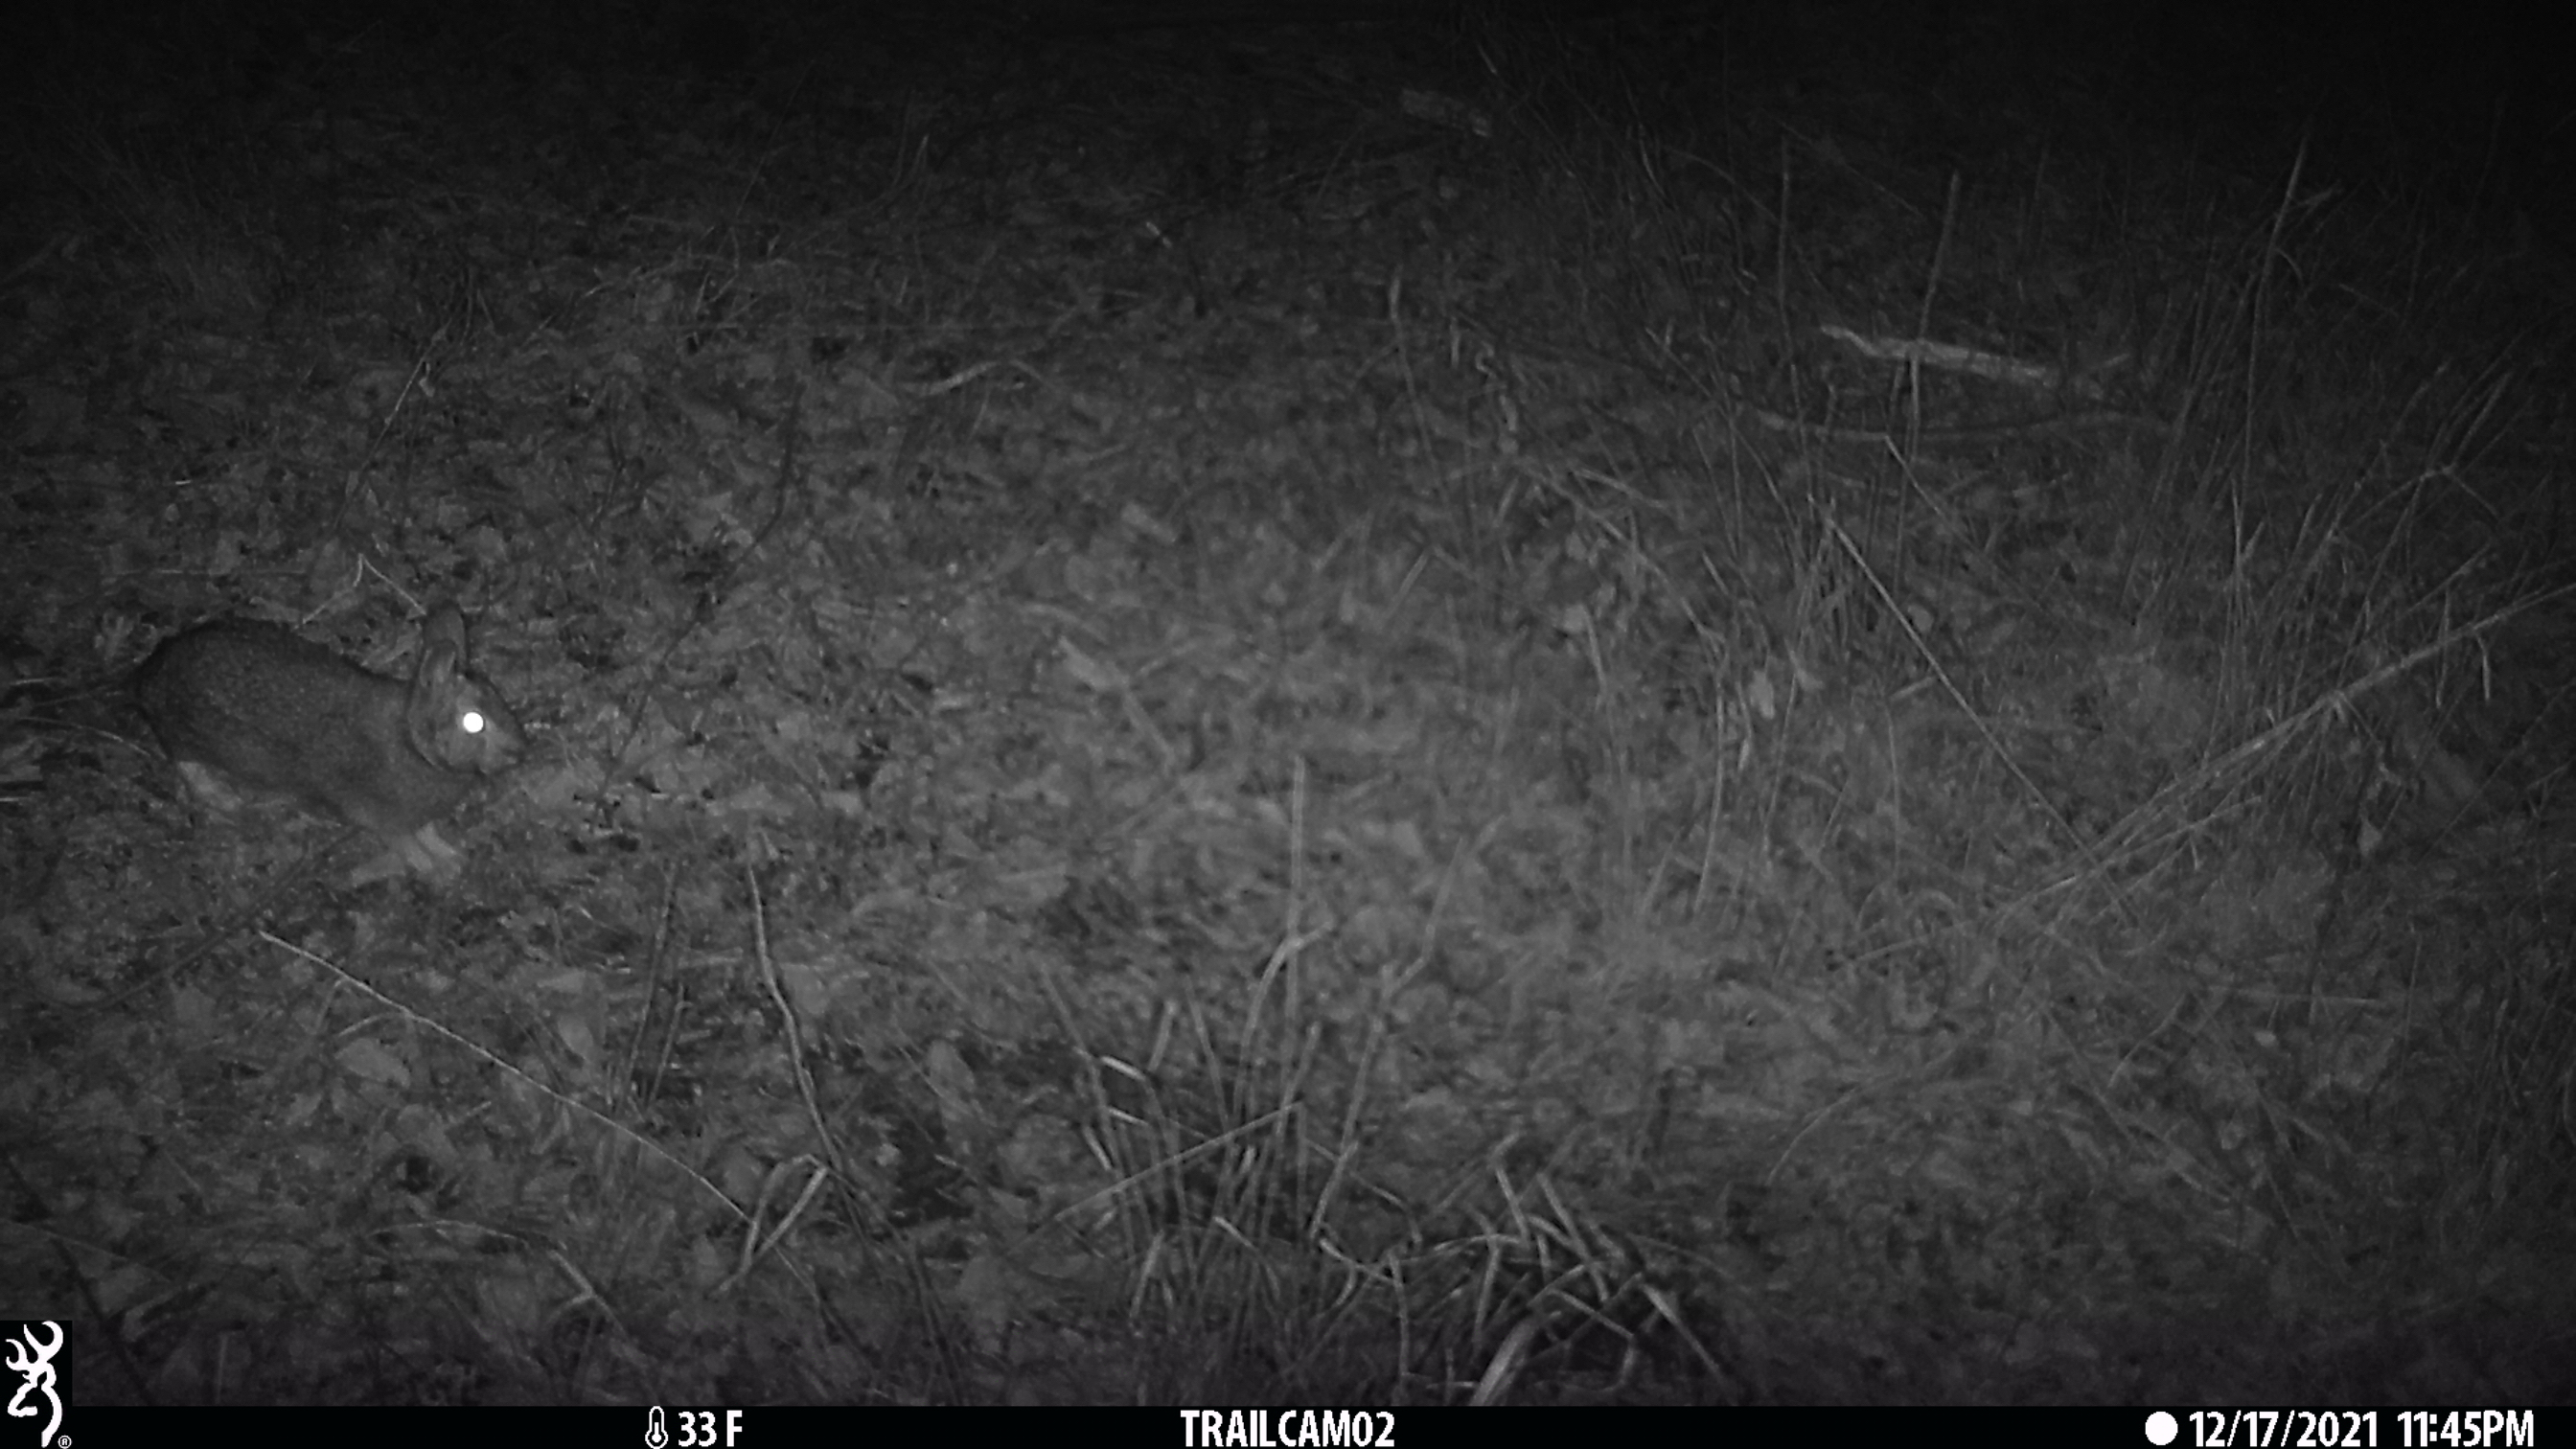Rabbit: (122, 589, 525, 840)
